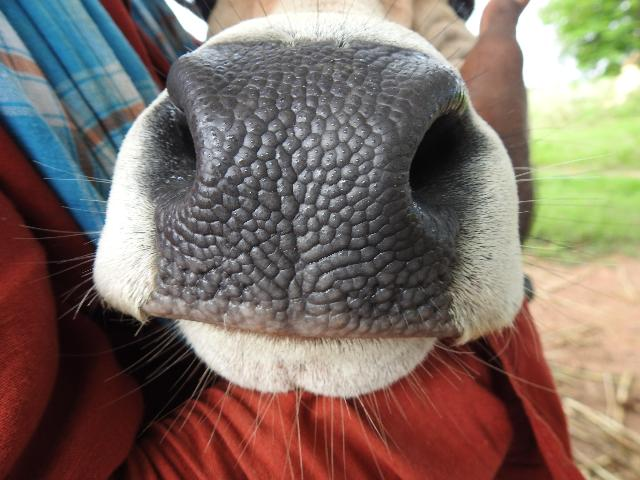Muzzle: (192, 58, 402, 318)
